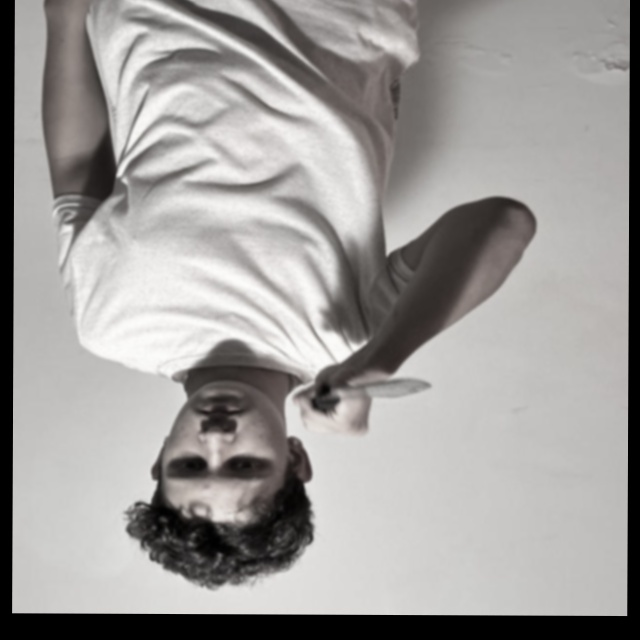Sharp-Object: (327, 378, 430, 401)
